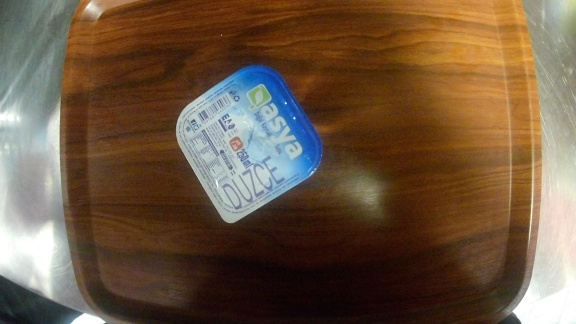kucuksu: (171, 63, 327, 228)
